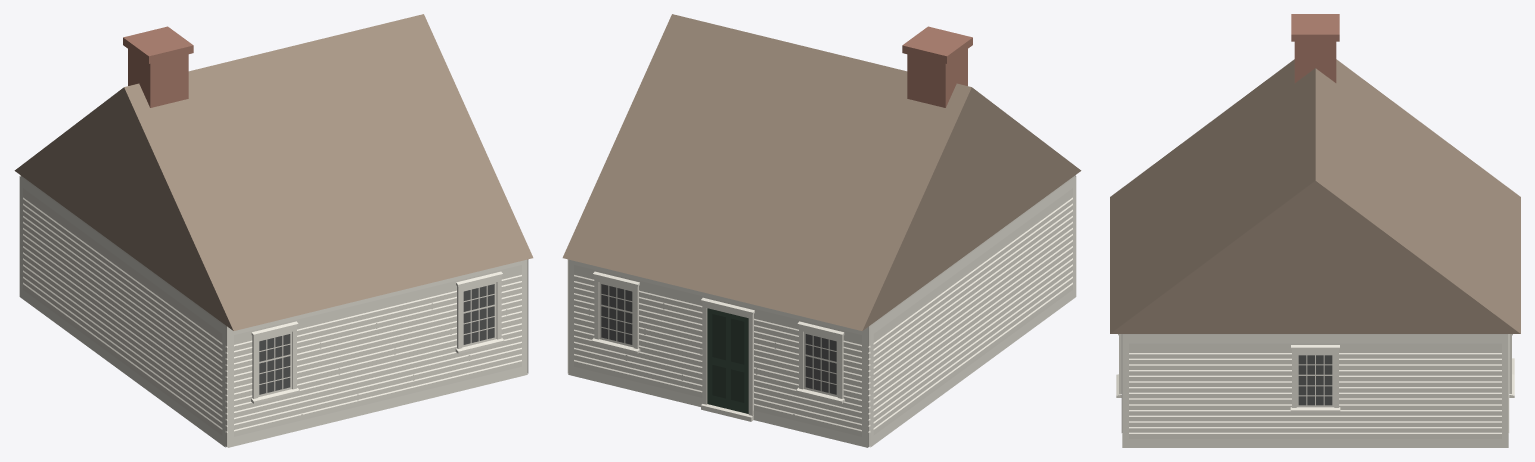
Rendered from recon_1835_blk_school_section_tier_119_d4_04__inferred_1835.glb.
3 views of the same model, side by side, from view 1: azimuth 30°, elevation 25°; view 2: azimuth 150°, elevation 25°; view 3: azimuth 270°, elevation 25° (orthographic). The views are drawn at different scales.
Parts seen in each view (by area): view 1: recon_1835_blk_school_section_tier_119_d4_04__inferred_1835; view 2: recon_1835_blk_school_section_tier_119_d4_04__inferred_1835; view 3: recon_1835_blk_school_section_tier_119_d4_04__inferred_1835.
Part boxes in pixels (x1,y1,x2,y2): recon_1835_blk_school_section_tier_119_d4_04__inferred_1835: [14, 14, 533, 447]; recon_1835_blk_school_section_tier_119_d4_04__inferred_1835: [562, 14, 1081, 447]; recon_1835_blk_school_section_tier_119_d4_04__inferred_1835: [1110, 14, 1520, 447].
Bounding box in the file's own units: 6.71 × 6.73 × 8.3.
